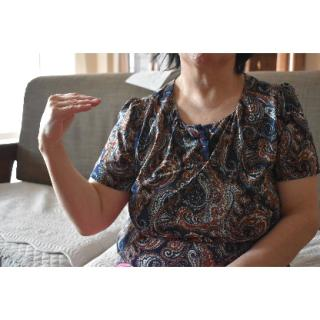HAA: (37, 89, 107, 148)
